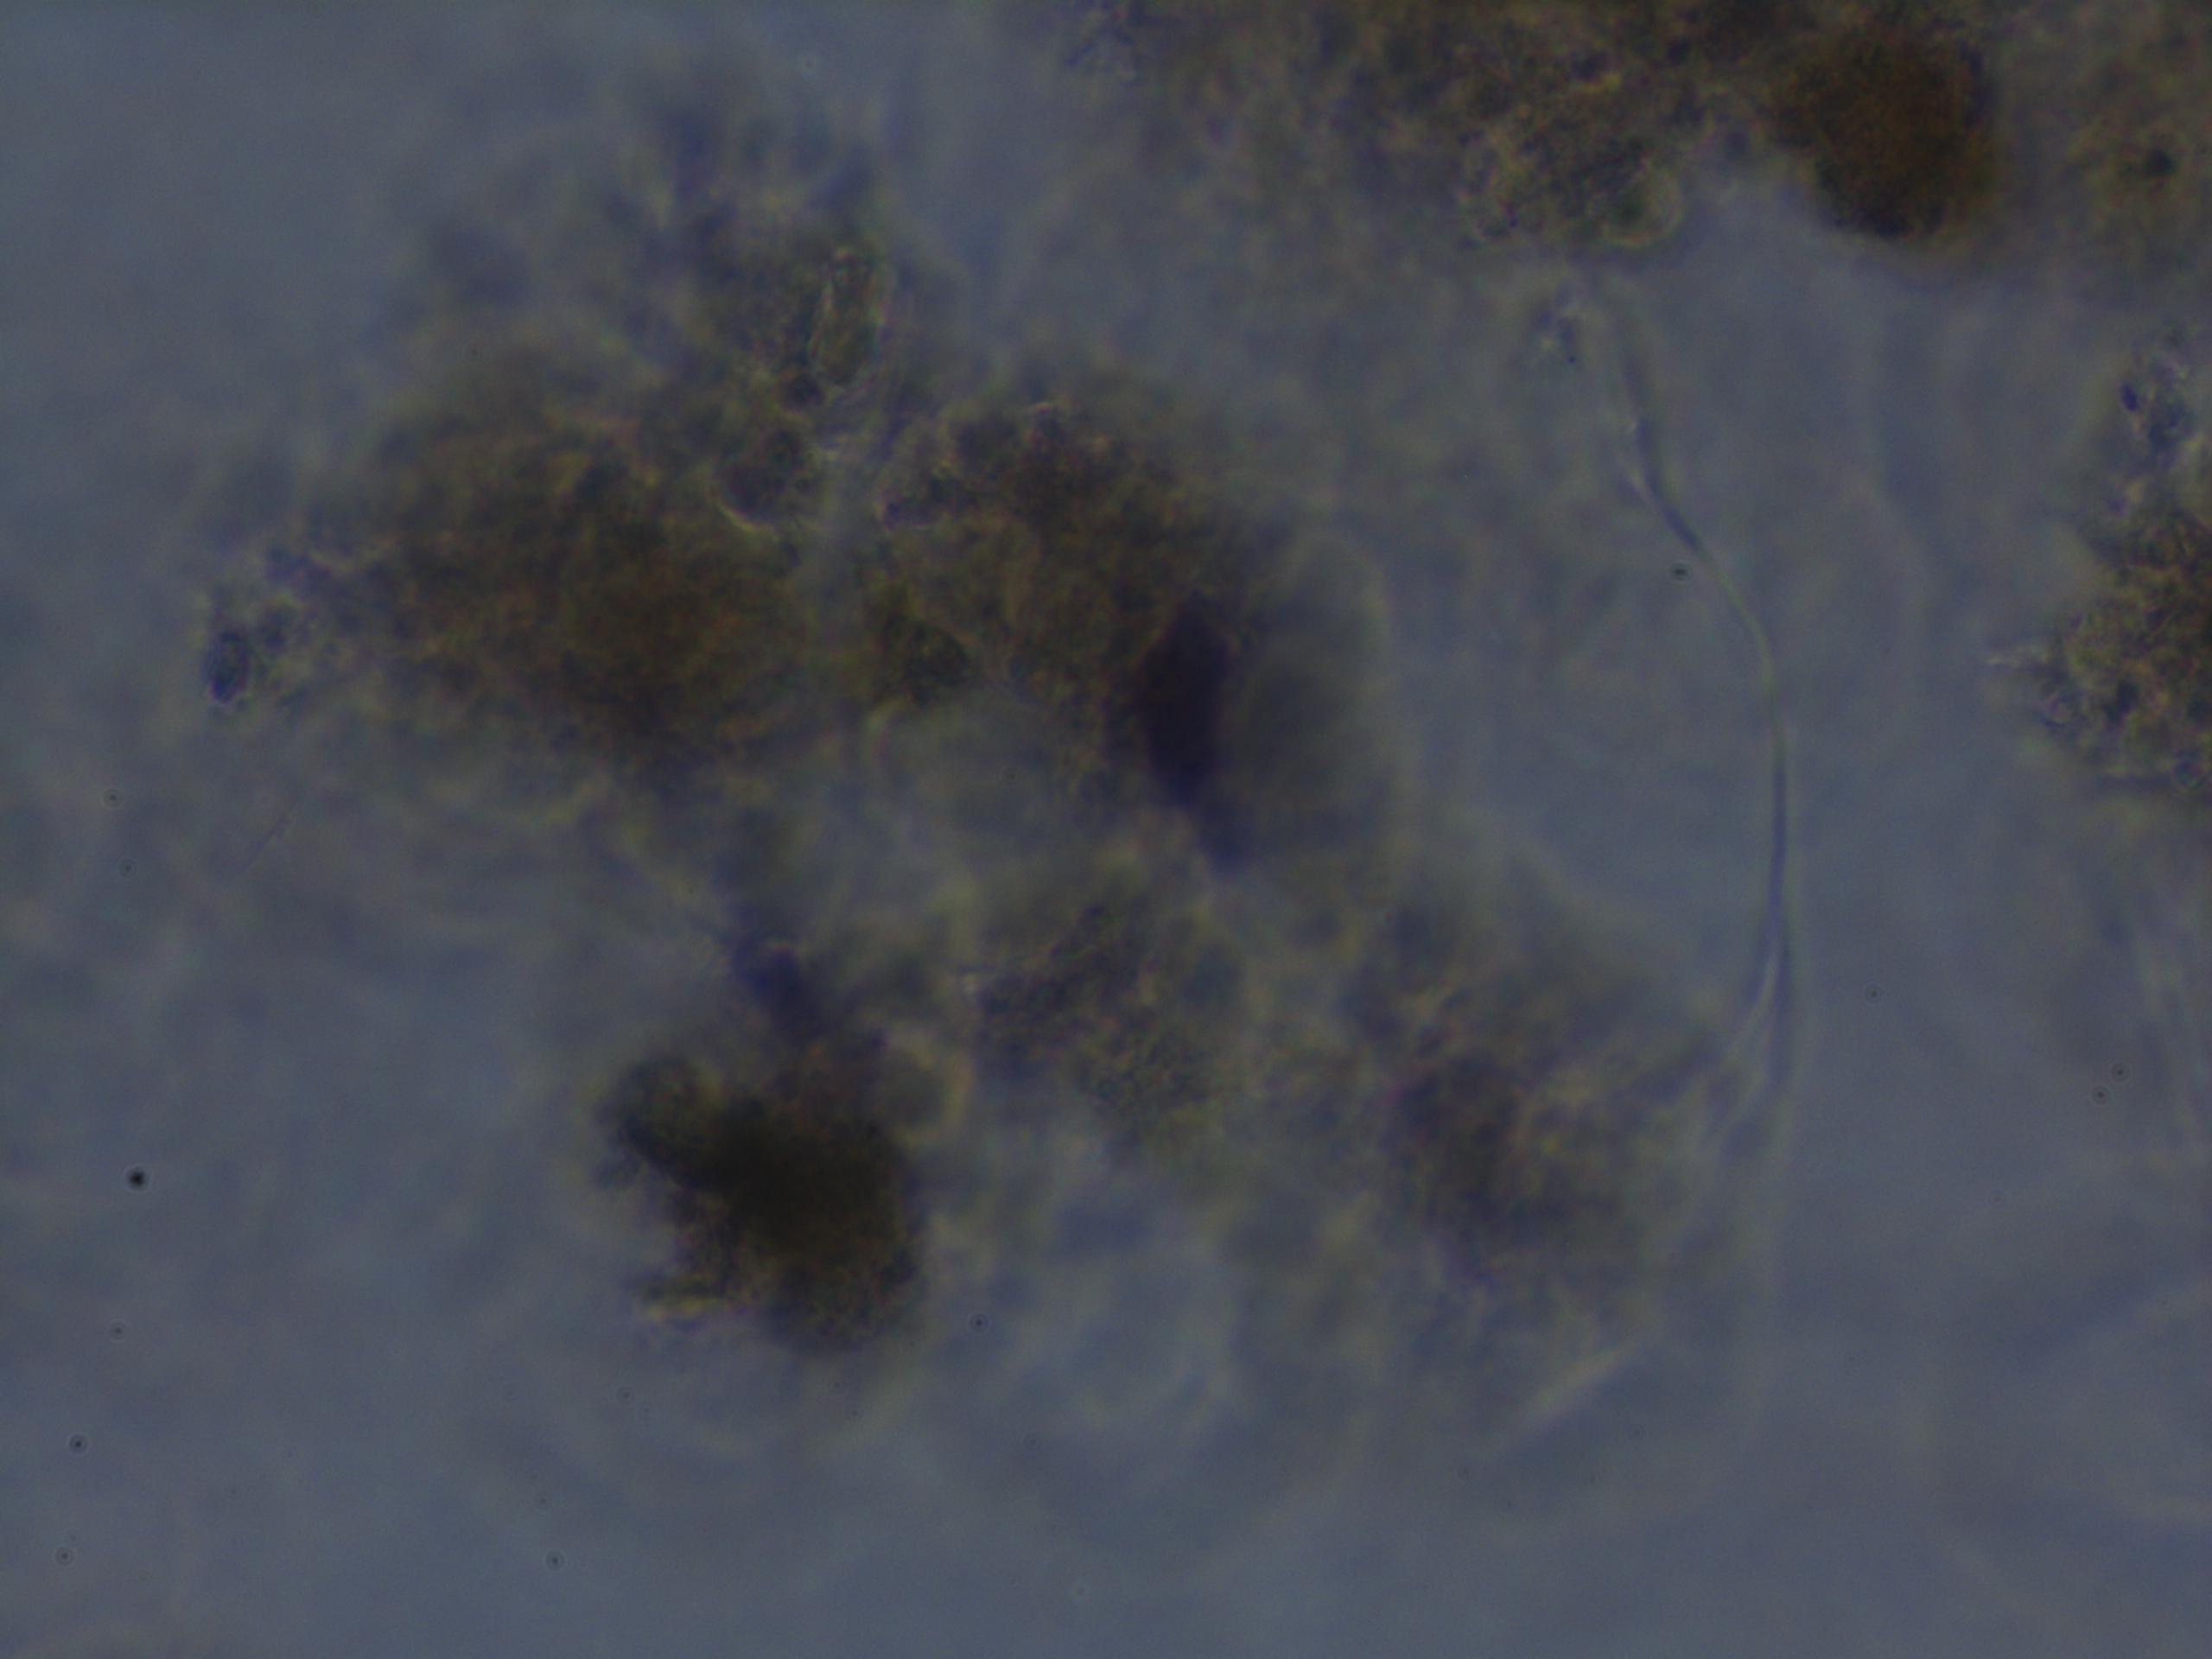filament: (1557, 256, 1815, 1204)
open_floc: (333, 207, 1594, 1371)
